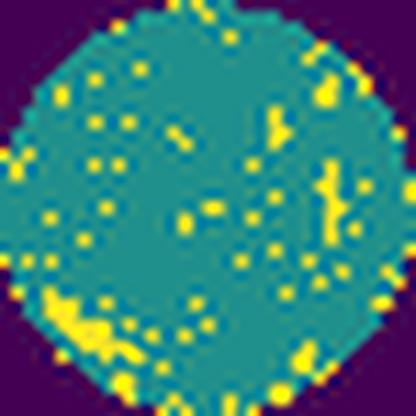Loc: (45, 283, 148, 362), (315, 152, 351, 245)
